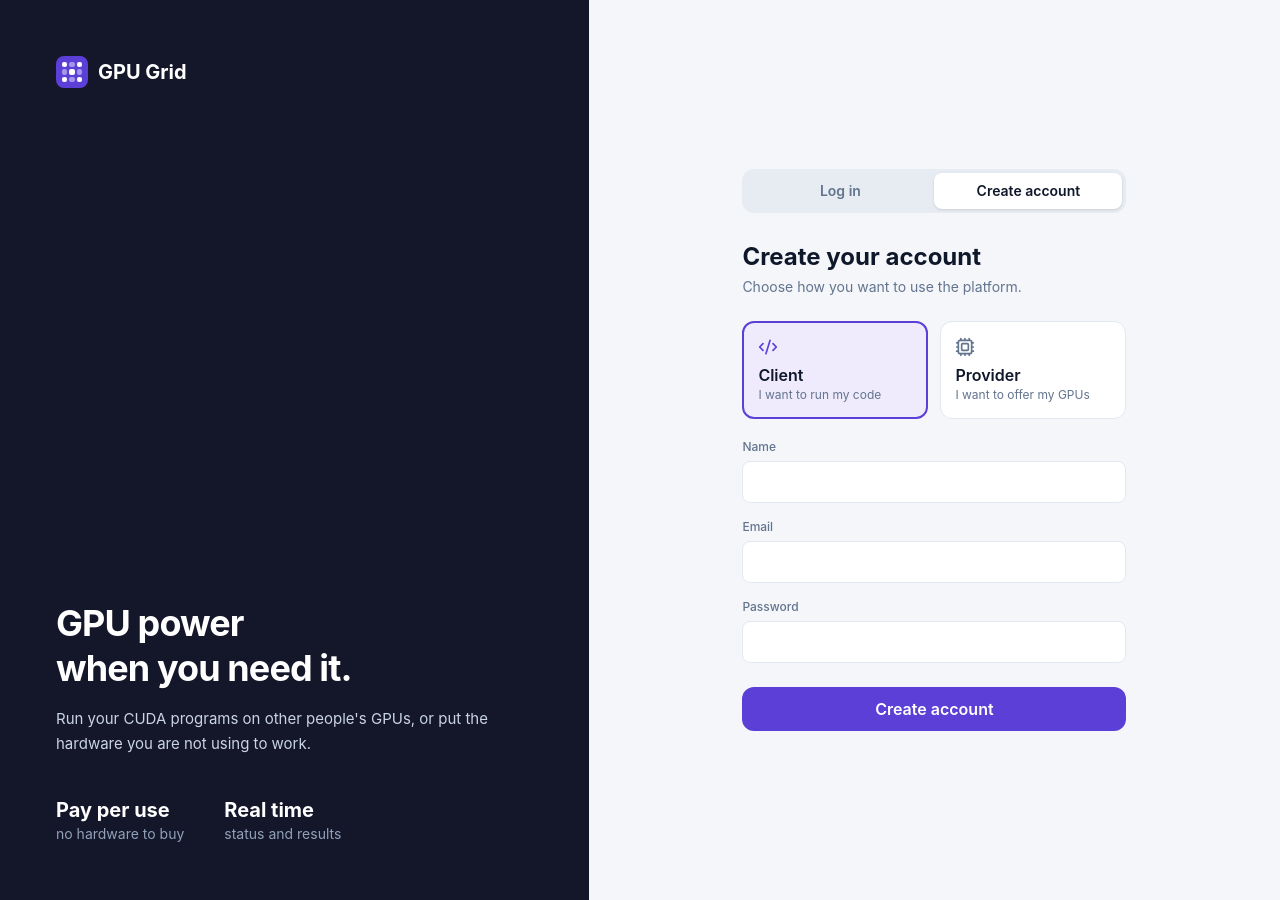
Test case: AuthPage › checks every field before sending anything to the backend
Type "not-an-email" into the field labelled "Email" at (934, 562), box [742,541,1126,583]
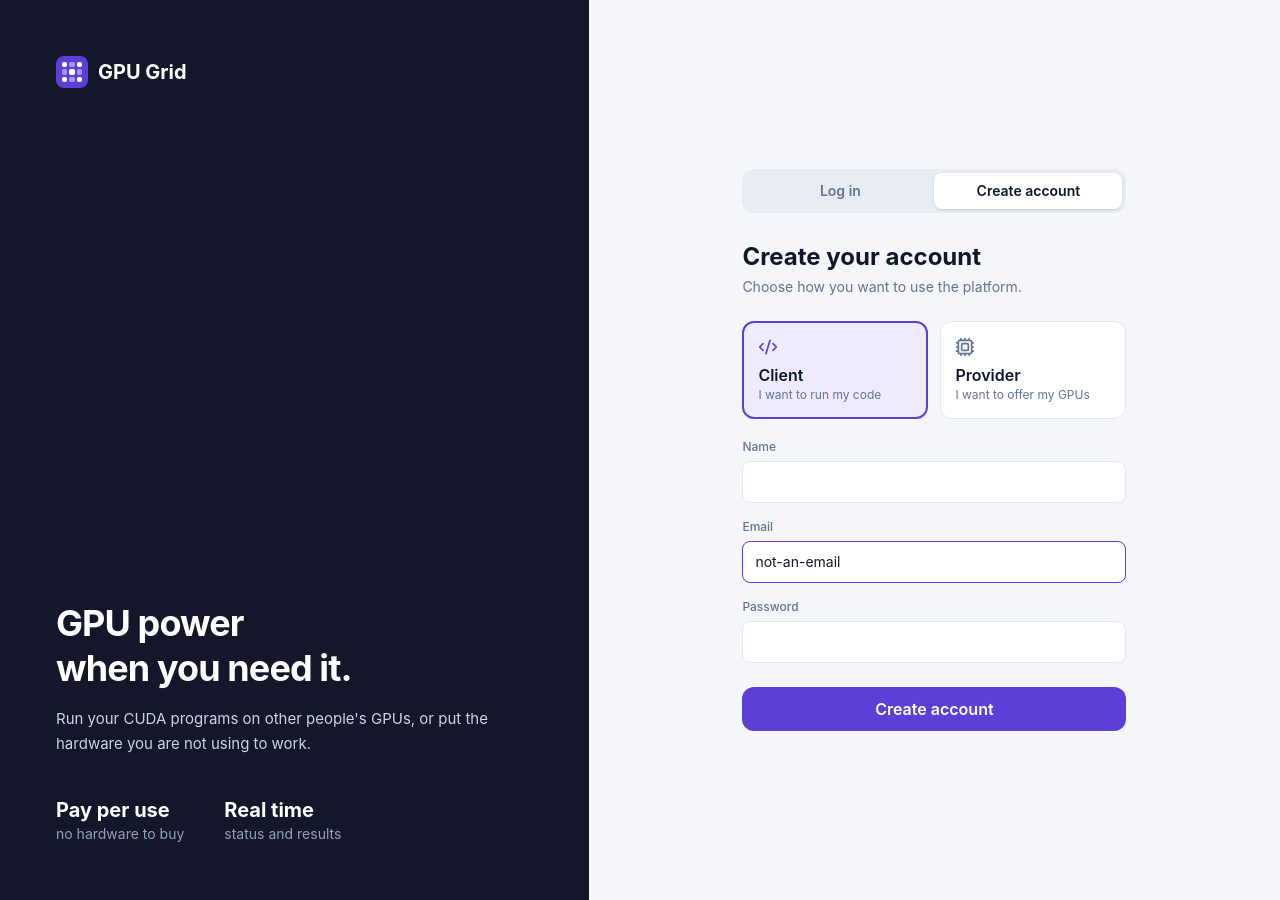
Type "short" into the password field labelled "Password" at (934, 642), box [742,621,1126,663]
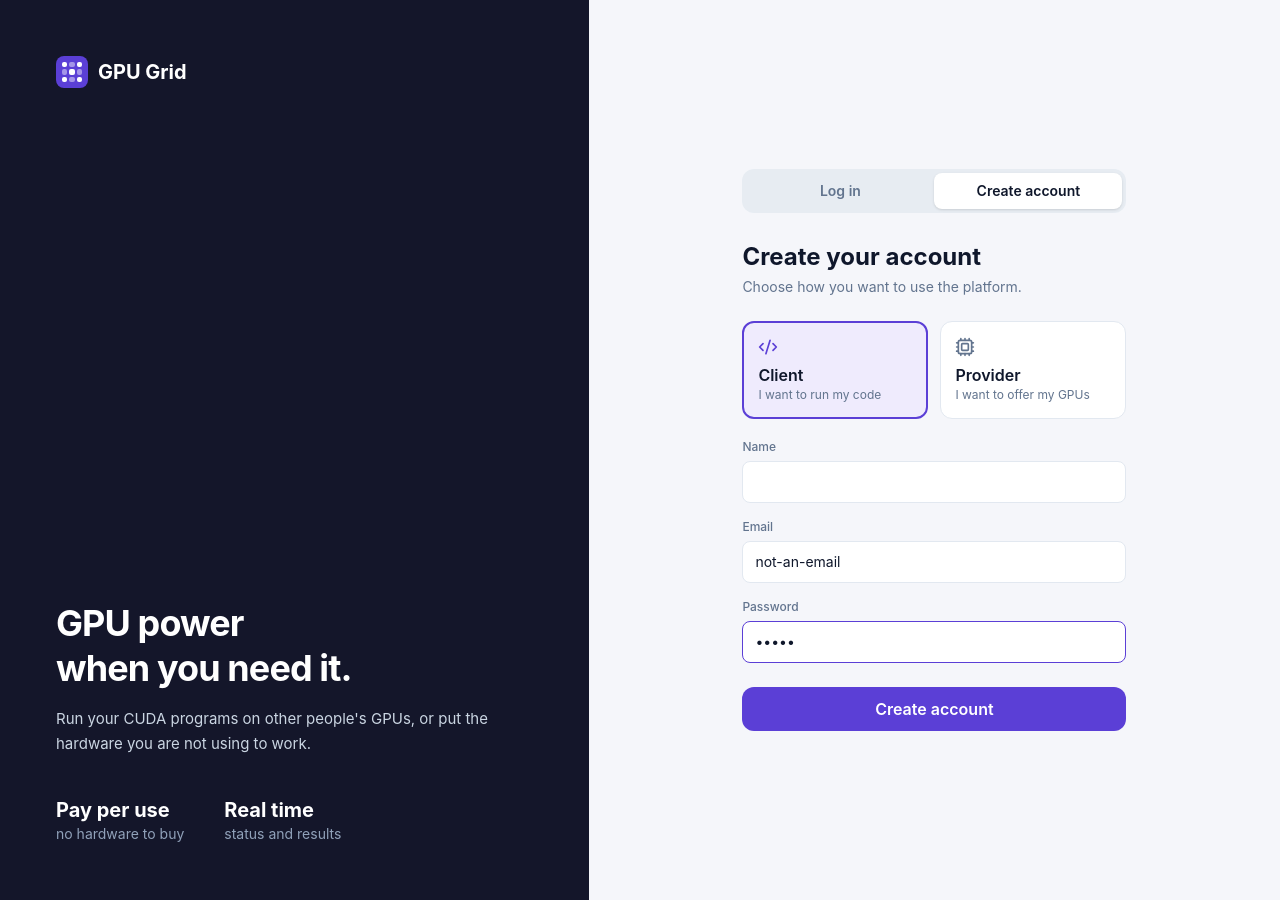
Click the button "Create account" at (934, 709), box [742,687,1126,731]
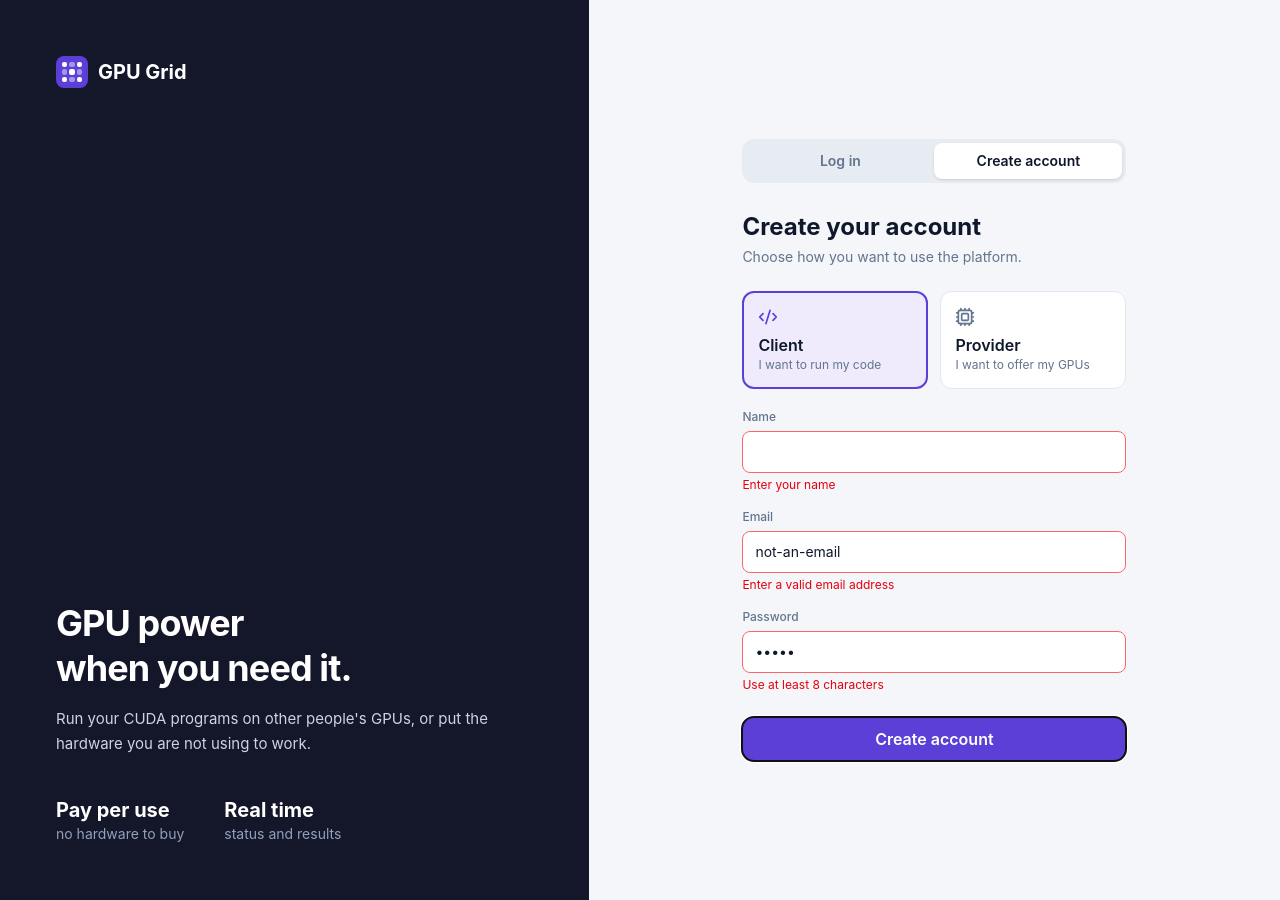
expect the text "Enter your name" is shown: met, box [742,477,835,492]
expect the text "Enter a valid email address" is shown: met, box [742,577,894,592]
expect the text "Use at least 8 characters" is shown: met, box [742,677,884,692]
